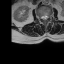CCS_normal: (44, 13, 46, 22)
LFS_normal: (48, 13, 50, 20)
LLS_normal: (46, 13, 48, 21)
RFS_normal: (39, 14, 41, 20)
RLS_normal: (41, 13, 44, 21)
